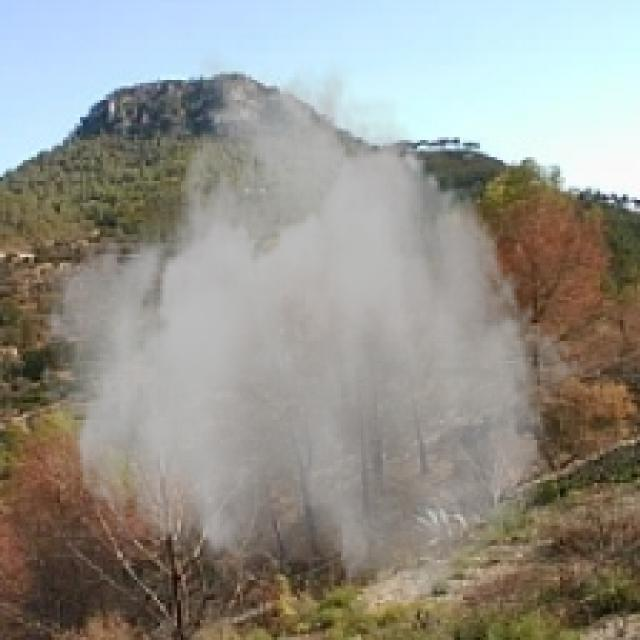Smoke: (37, 46, 583, 612)
